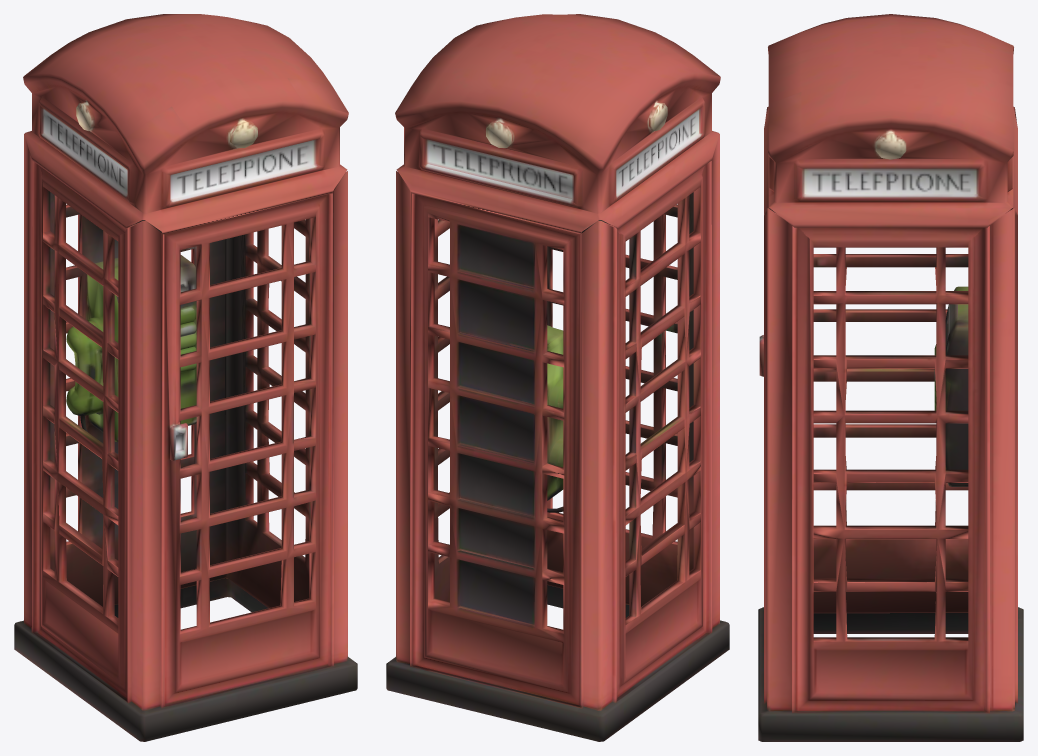
The model's file is Outdoor__telephone_booth_city_realistic_style_30e5b2f9_v4.cluster.glb.
The picture shows the model from 3 angles, left to right: view 1: azimuth 30°, elevation 25°; view 2: azimuth 150°, elevation 25°; view 3: azimuth 270°, elevation 25°; orthographic projection. The views are drawn at different scales.
Parts seen in each view (by area): view 1: mesh_input; view 2: mesh_input; view 3: mesh_input.
Boxes of the visible parts, box(x1,y1,x2,y2) form: mesh_input: box(14, 14, 357, 741); mesh_input: box(386, 14, 729, 741); mesh_input: box(758, 14, 1023, 741).
Bounding box in the file's own units: 0.6914 × 1.9 × 0.711.
1 material, 1 textured.
